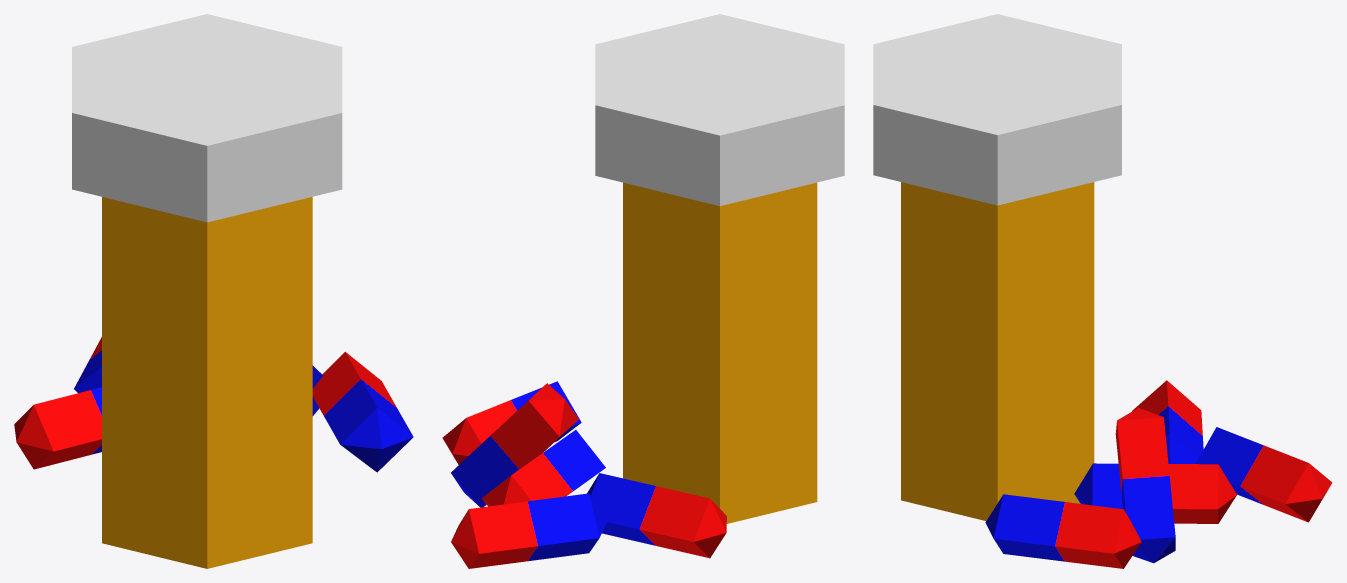
File: hs_pills.fbx
3 renders of one model, left to right at view 1: azimuth 30°, elevation 25°; view 2: azimuth 150°, elevation 25°; view 3: azimuth 270°, elevation 25°, orthographic. The views are drawn at different scales.
Visible parts, largest first — view 1: pills; view 2: pills; view 3: pills.
Part boxes in pixels (x1,y1,x2,y2): pills: [14, 14, 413, 568]; pills: [442, 14, 844, 568]; pills: [873, 14, 1332, 568].
Size of the model in its own units: 1.9 by 2.14 by 2.2.
